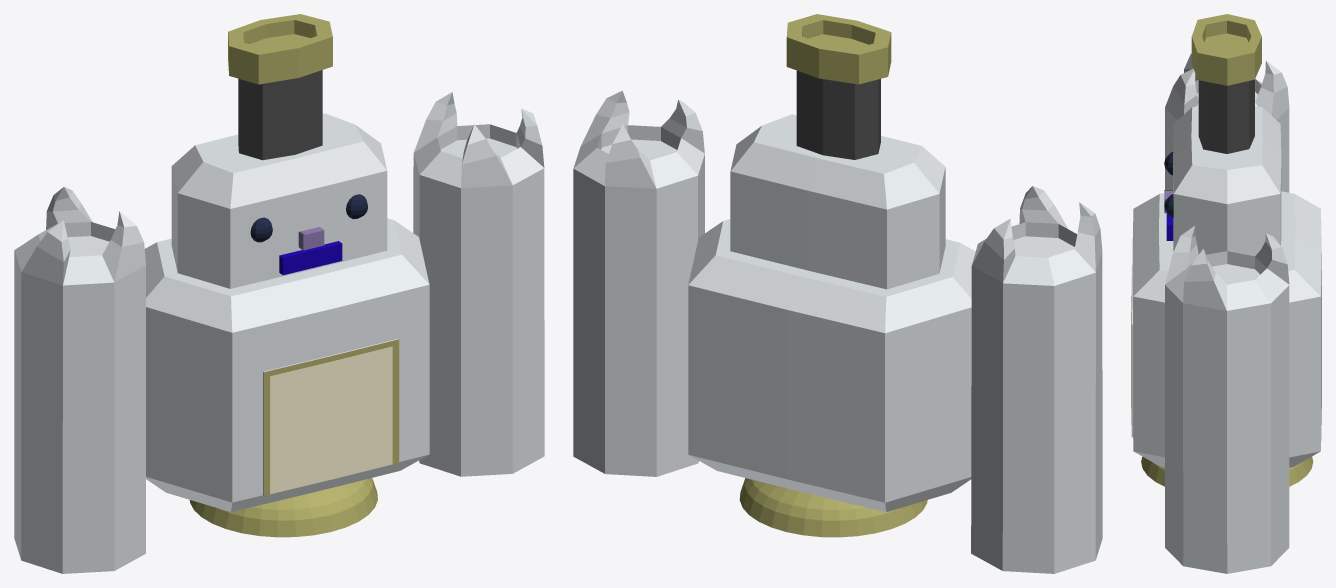
File: ship.fbx
3 views of the same model, side by side, from view 1: azimuth 30°, elevation 25°; view 2: azimuth 150°, elevation 25°; view 3: azimuth 270°, elevation 25° (orthographic). The views are drawn at different scales.
Parts seen in each view (by area): view 1: ship; view 2: ship; view 3: ship.
Part boxes in pixels (<box>): ship: <box>14,14,544,573</box>; ship: <box>573,14,1102,573</box>; ship: <box>1131,14,1321,573</box>.
Bounding box in the file's own units: 4.72 × 4.06 × 1.66.
Materials: 1 (1 with a texture image).
